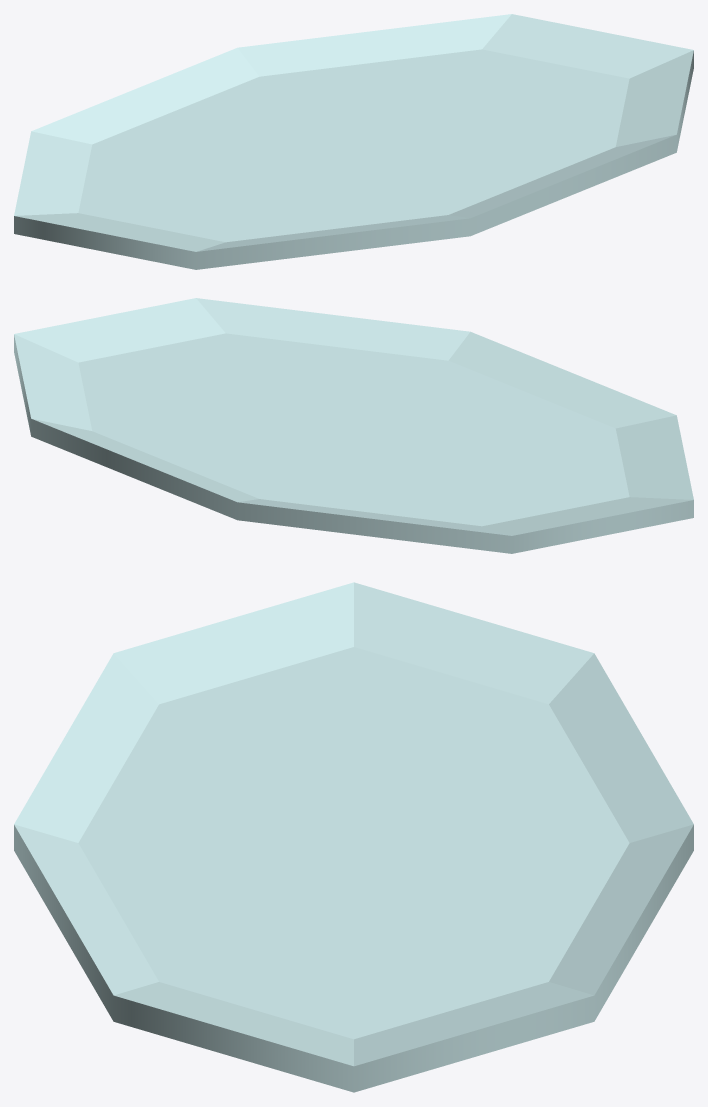
The model's file is Itr_Obj_dish3_04.FBX.
The picture shows the model from 3 angles, top to bottom: view 1: azimuth 30°, elevation 25°; view 2: azimuth 150°, elevation 25°; view 3: azimuth 270°, elevation 25°; orthographic projection. The views are drawn at different scales.
Visible parts, largest first — view 1: Itr_Obj_dish3_04; view 2: Itr_Obj_dish3_04; view 3: Itr_Obj_dish3_04.
Part boxes in pixels (x1,y1,x2,y2): Itr_Obj_dish3_04: (14, 14, 693, 269); Itr_Obj_dish3_04: (14, 298, 693, 553); Itr_Obj_dish3_04: (14, 582, 693, 1092).
Bounding box in the file's own units: 21.8 × 0.9449 × 12.94.
